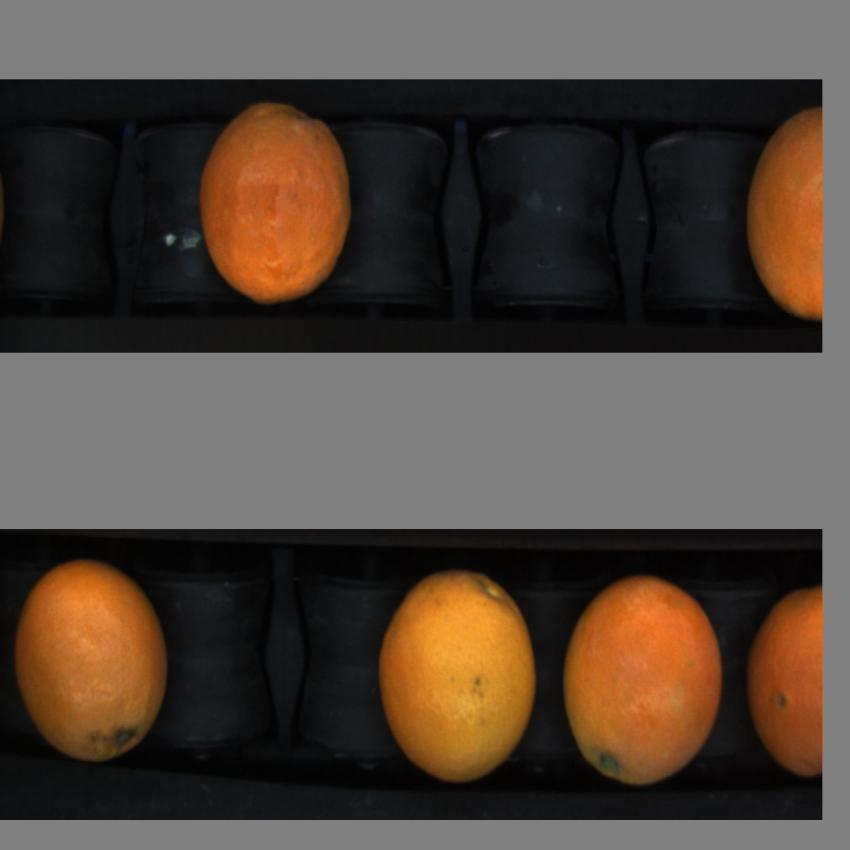Buen estado: (372, 556, 545, 794), (559, 564, 727, 788), (11, 555, 175, 771), (746, 580, 822, 784)
Mal estado: (197, 98, 354, 305), (746, 112, 822, 330)
